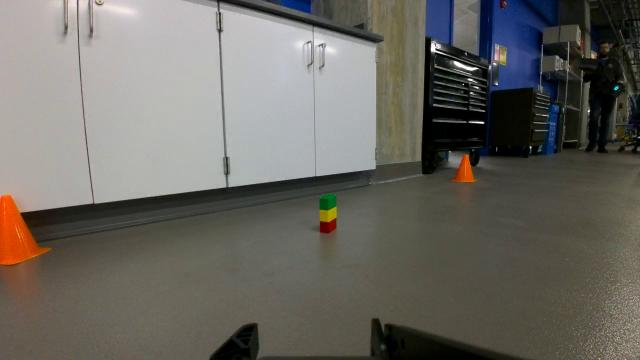lego: (315, 189, 344, 237)
